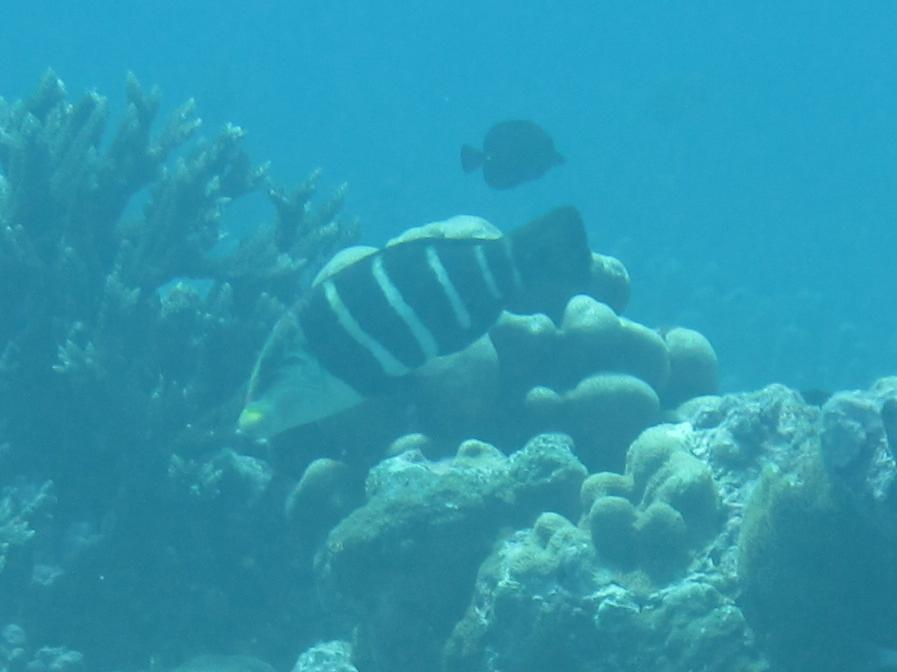Fish: (157, 197, 656, 450)
